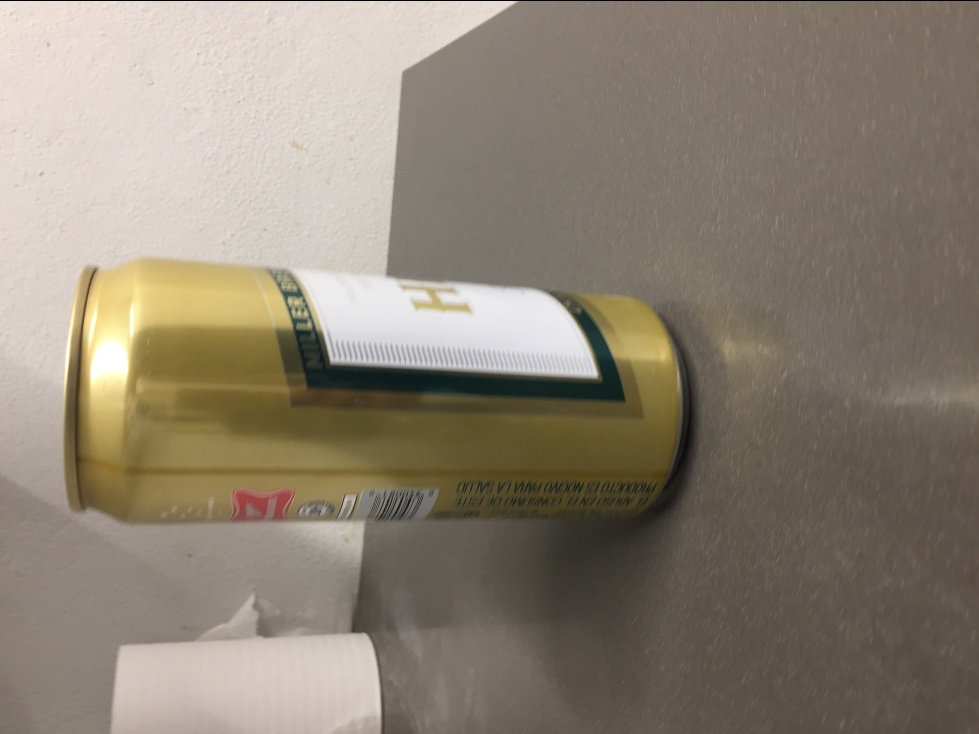miller: (56, 252, 687, 534)
